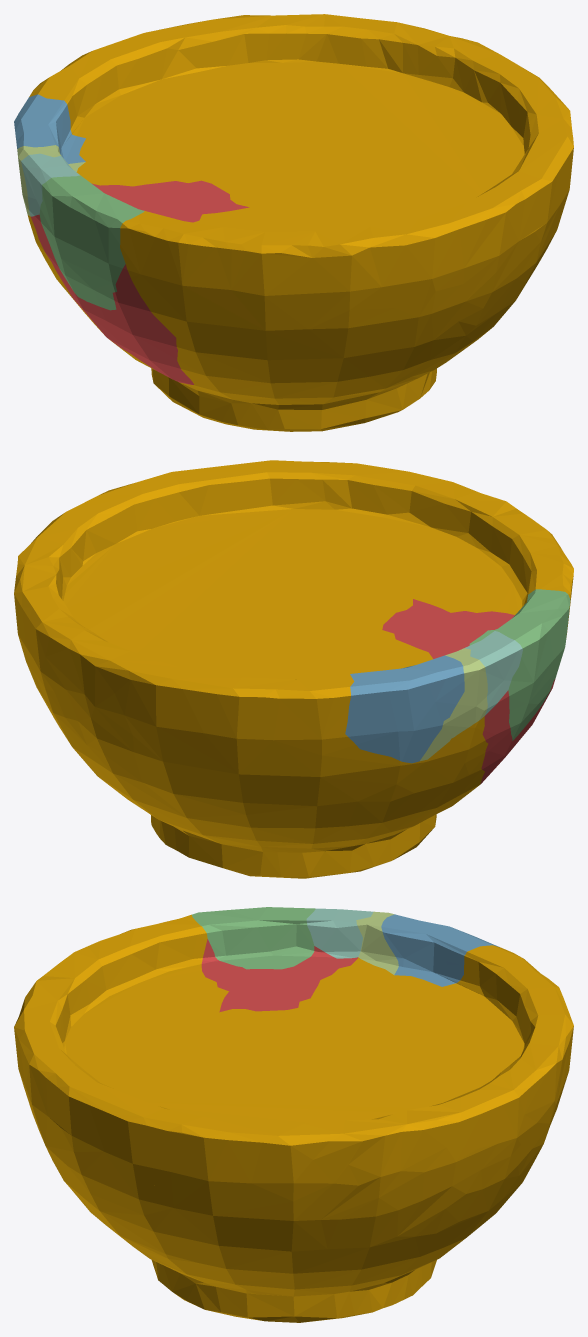
The model's file is fractured_73_6pcs.glb.
The picture shows the model from 3 angles, top to bottom: view 1: azimuth 30°, elevation 25°; view 2: azimuth 150°, elevation 25°; view 3: azimuth 270°, elevation 25°; orthographic projection.
Visible parts, largest first — view 1: piece_0.obj, piece_1.obj, piece_3.obj, piece_2.obj, piece_4.obj, piece_5.obj; view 2: piece_0.obj, piece_2.obj, piece_3.obj, piece_1.obj, piece_5.obj, piece_4.obj; view 3: piece_0.obj, piece_3.obj, piece_1.obj, piece_2.obj, piece_4.obj, piece_5.obj.
Part boxes in pixels (x1,y1,x2,y2): piece_0.obj: (27, 14, 573, 431); piece_1.obj: (31, 180, 249, 384); piece_3.obj: (39, 175, 144, 310); piece_2.obj: (14, 94, 85, 163); piece_4.obj: (21, 153, 79, 216); piece_5.obj: (17, 145, 85, 216); piece_0.obj: (14, 460, 573, 878); piece_2.obj: (345, 655, 464, 763); piece_3.obj: (469, 589, 570, 740); piece_1.obj: (382, 599, 555, 784); piece_5.obj: (420, 648, 487, 761); piece_4.obj: (464, 631, 522, 715); piece_0.obj: (14, 914, 573, 1322); piece_3.obj: (192, 907, 315, 969); piece_1.obj: (201, 939, 357, 1012); piece_2.obj: (381, 914, 499, 986); piece_4.obj: (306, 908, 373, 958); piece_5.obj: (356, 911, 398, 974).
Bounding box in the file's own units: 1 × 0.4822 × 0.9999.
